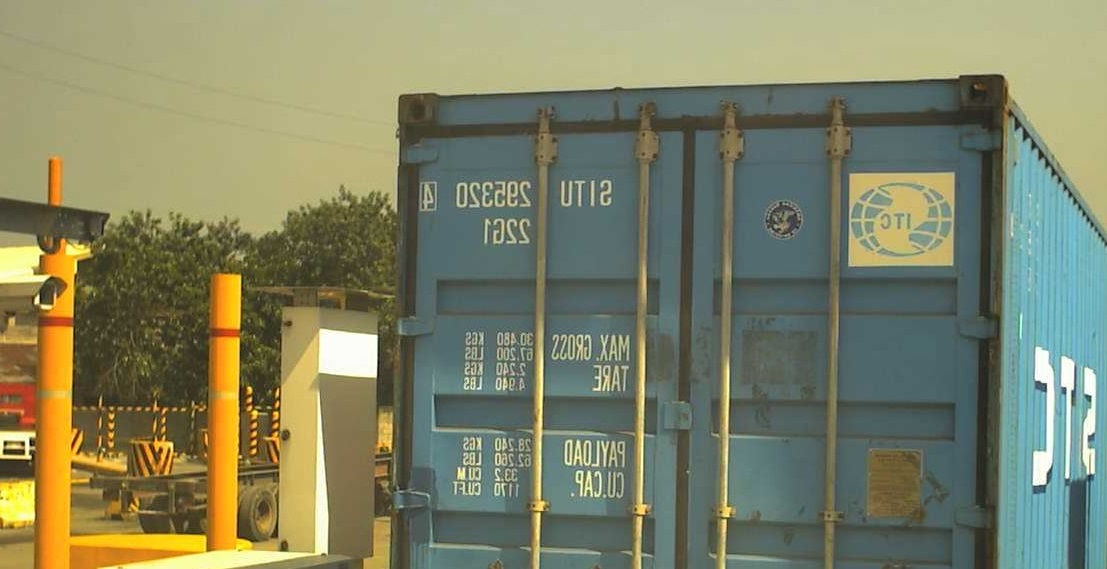container_door: (396, 86, 995, 569)
